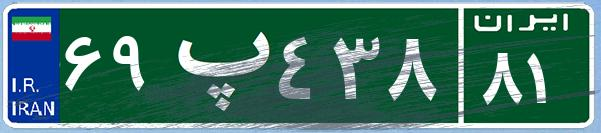1: (525, 38, 570, 115)
3: (330, 28, 385, 110)
4: (273, 28, 330, 110)
6: (57, 26, 110, 107)
8: (385, 28, 445, 110), (475, 38, 525, 113)
9: (110, 28, 158, 105)
پ: (158, 15, 273, 115)
